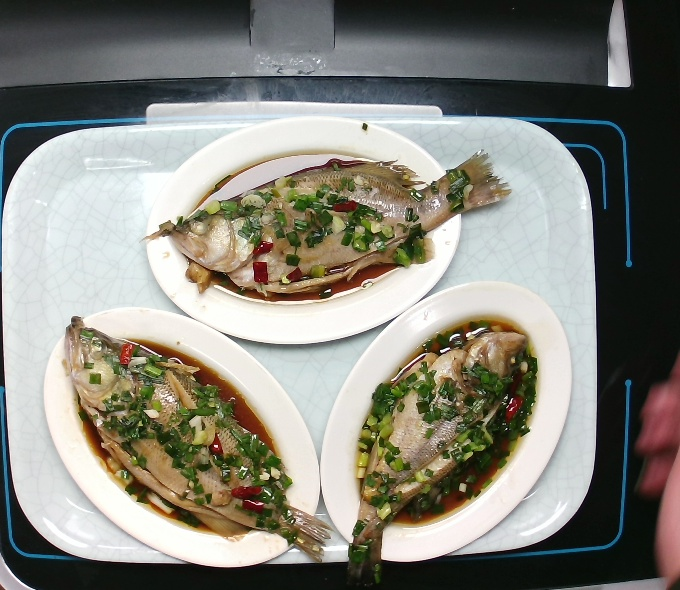wcq-LuYu: (53, 308, 332, 561), (144, 141, 514, 310), (341, 312, 550, 590)
